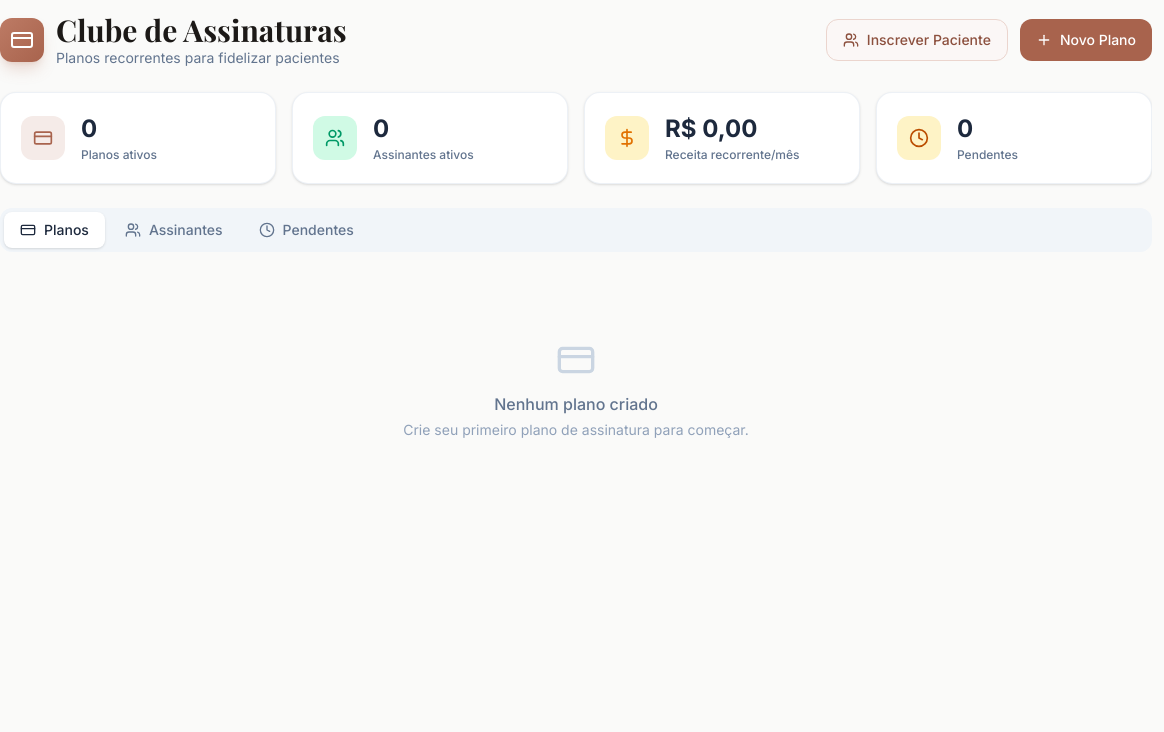
Test: pages/Subscriptions › renderiza o estado vazio de cada aba
The image size is (1164, 732).
expect the text "Nenhum plano criado" is shown: met, box [494, 394, 658, 414]
Note: aba Assinantes
Click the button "Assinantes" at (174, 230), box [109, 212, 239, 248]
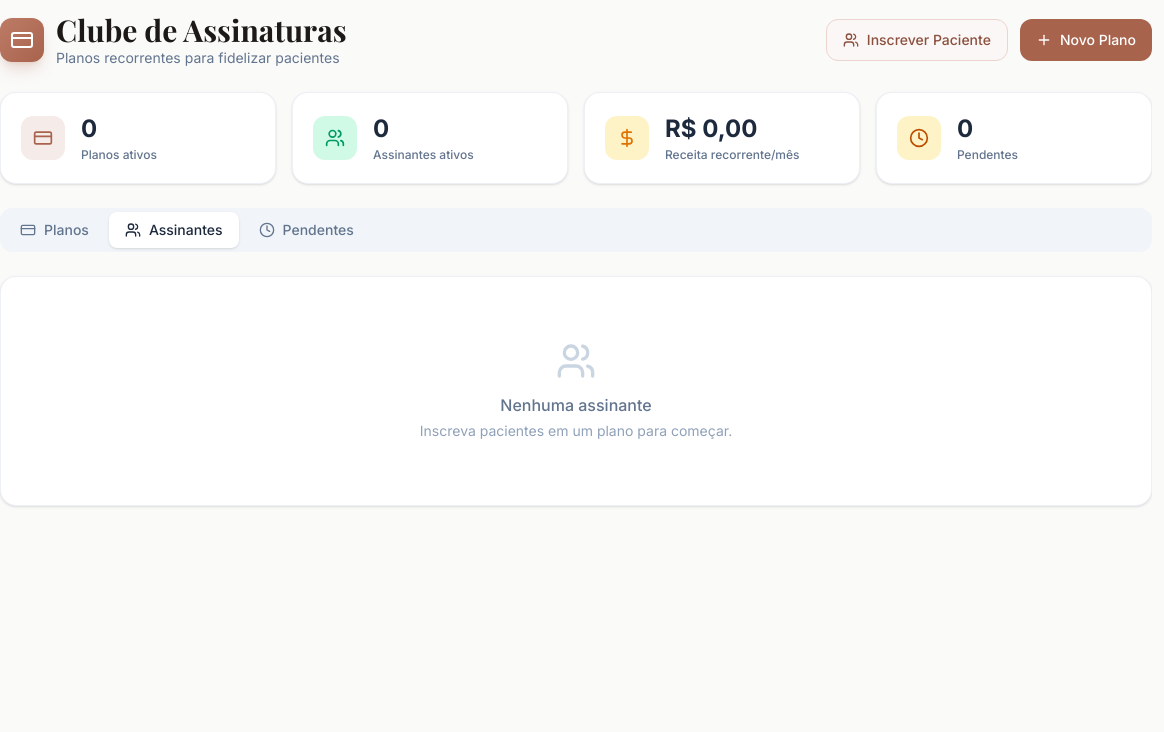
expect the text "Nenhuma assinante" is shown: met, box [500, 395, 652, 415]
Note: aba Pendentes
Click the button "Pendentes" at (306, 230), box [243, 212, 370, 248]
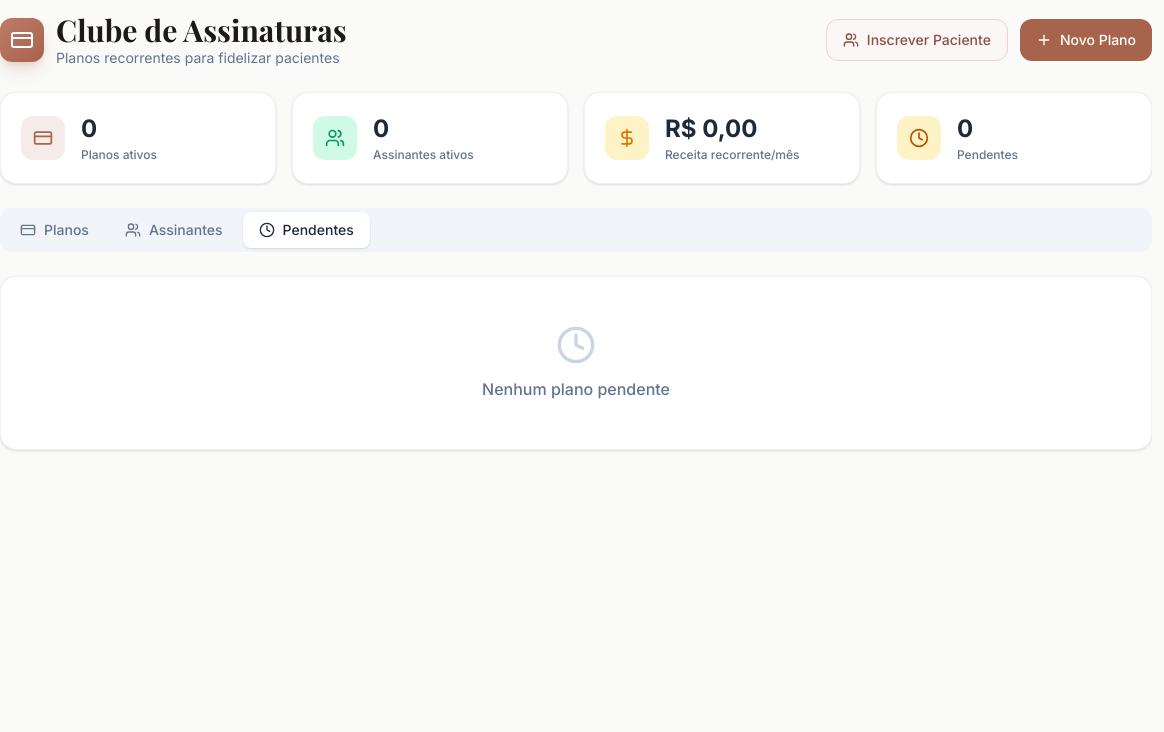
expect the text "Nenhum plano pendente" is shown: met, box [482, 379, 670, 399]
